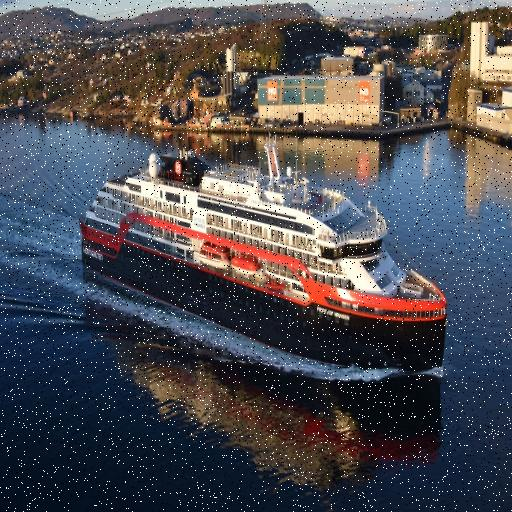cruises: (79, 141, 450, 383)
